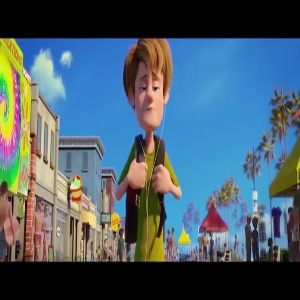Shagy: (121, 38, 187, 129)
